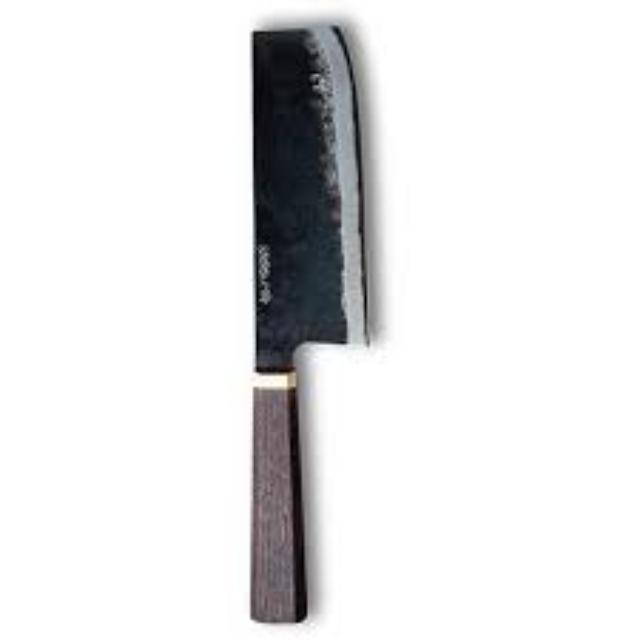Knife: (248, 20, 370, 622)
